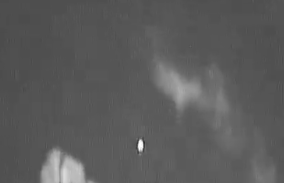Target: (139, 139, 143, 151)
